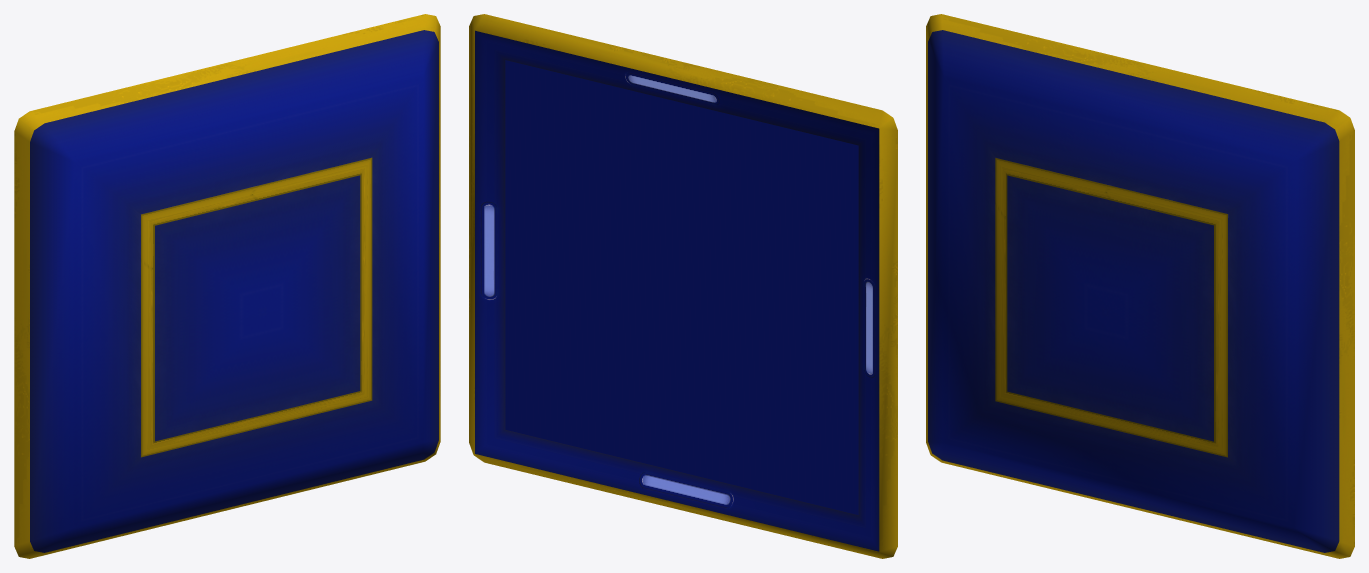
The model's file is s0_SquareBoard_Art_0__01.gltf.
The picture shows the model from 3 angles, left to right: view 1: azimuth 30°, elevation 25°; view 2: azimuth 150°, elevation 25°; view 3: azimuth 330°, elevation 25°; orthographic projection.
Visible parts, largest first — view 1: node_SquareBoard_Art (0); view 2: node_SquareBoard_Art (0); view 3: node_SquareBoard_Art (0).
Boxes of the visible parts, left/top/right/bottom form: node_SquareBoard_Art (0): left=14, top=14, right=440, bottom=558; node_SquareBoard_Art (0): left=469, top=14, right=897, bottom=558; node_SquareBoard_Art (0): left=926, top=14, right=1354, bottom=558.
Size of the model in its own units: 4.62 by 4.62 by 0.7867.
